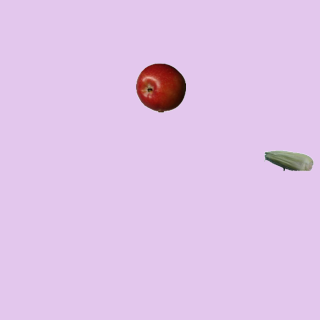Apple Braeburn: (135, 62, 185, 112)
Corn Husk: (263, 135, 313, 185)
